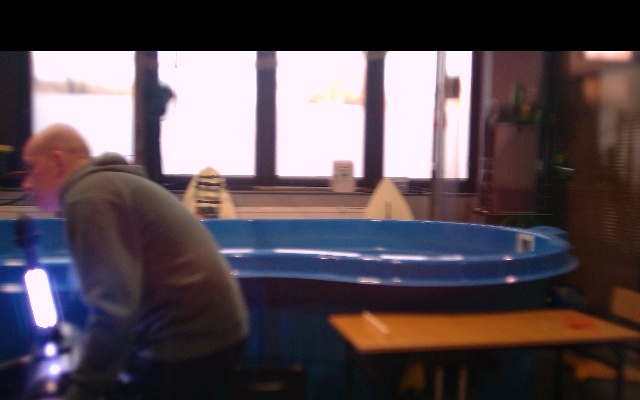white: (24, 269, 59, 327)
